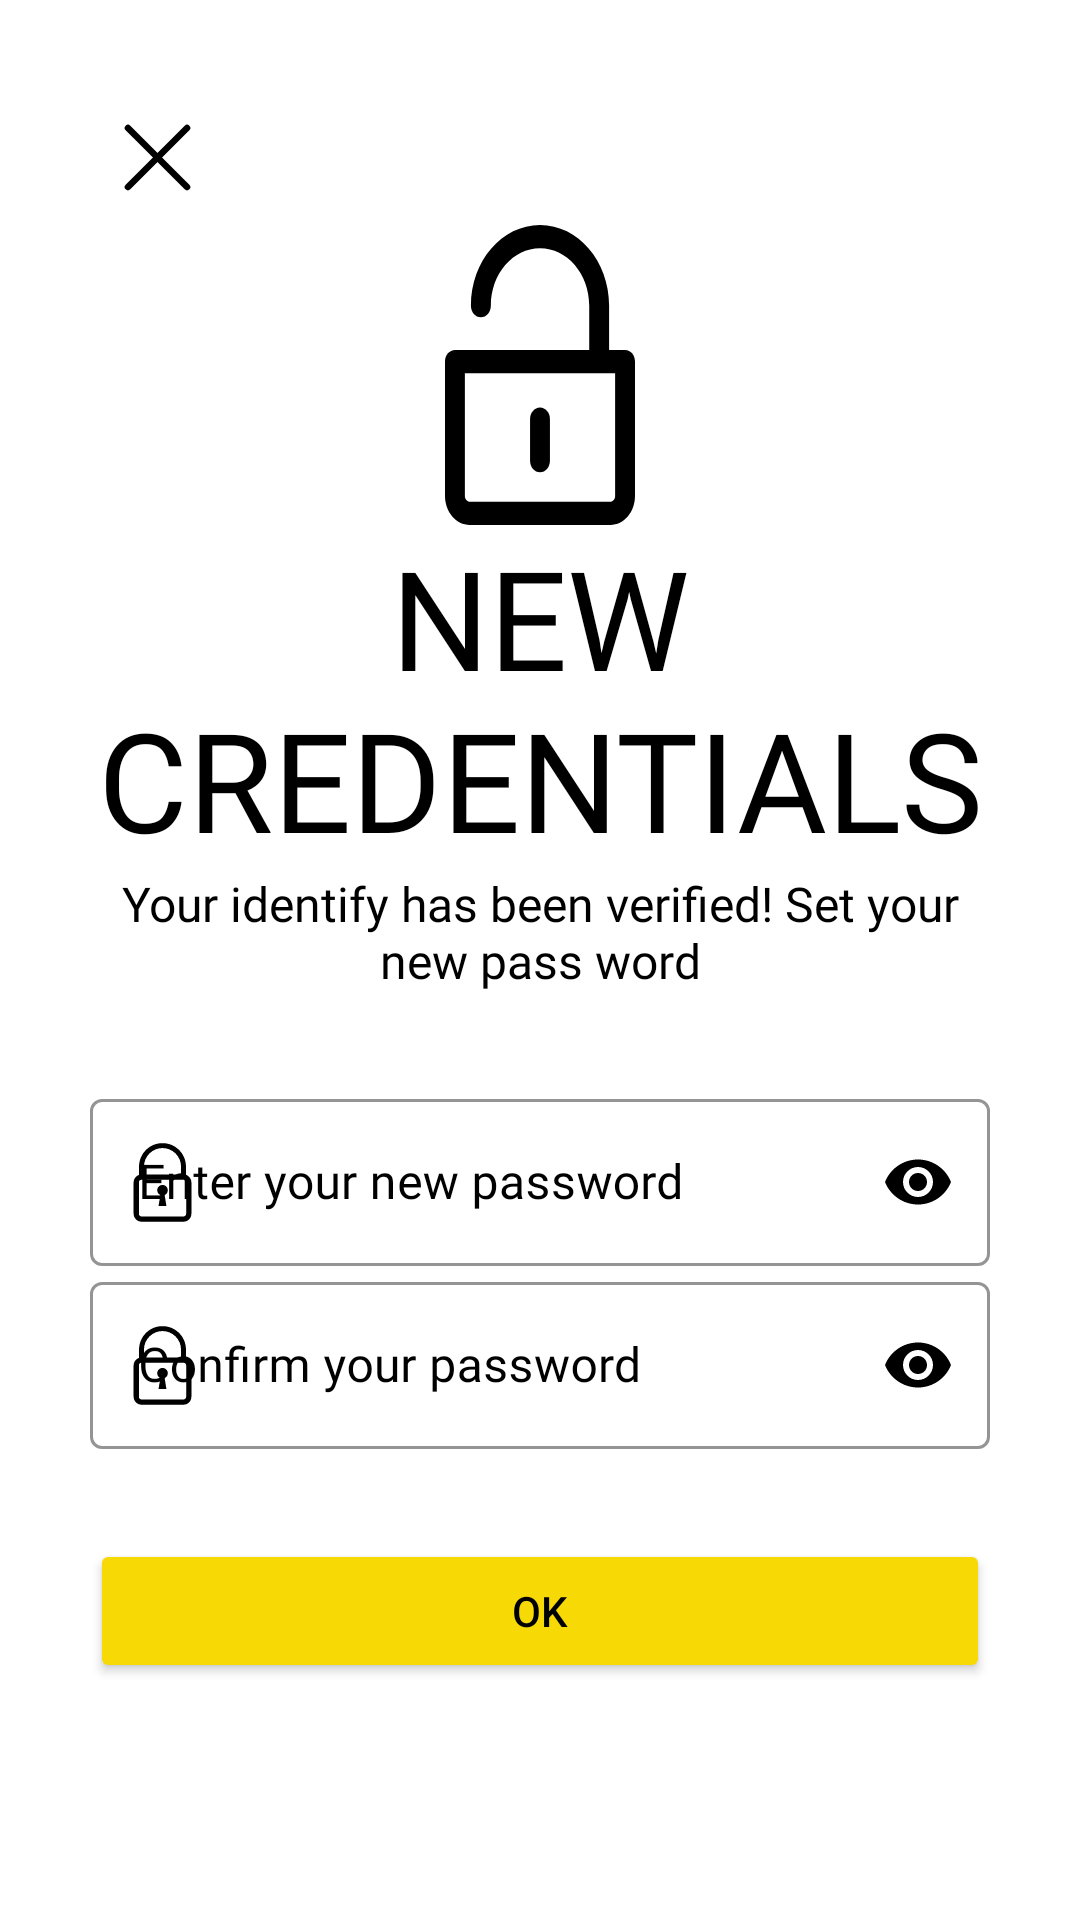

Named icons in this screenshot (1080 x 1920) and their bounding boxes, box=[x1, y1, x2, y2]:
close: box=[124, 124, 191, 191]
unlock: box=[445, 225, 635, 525]
